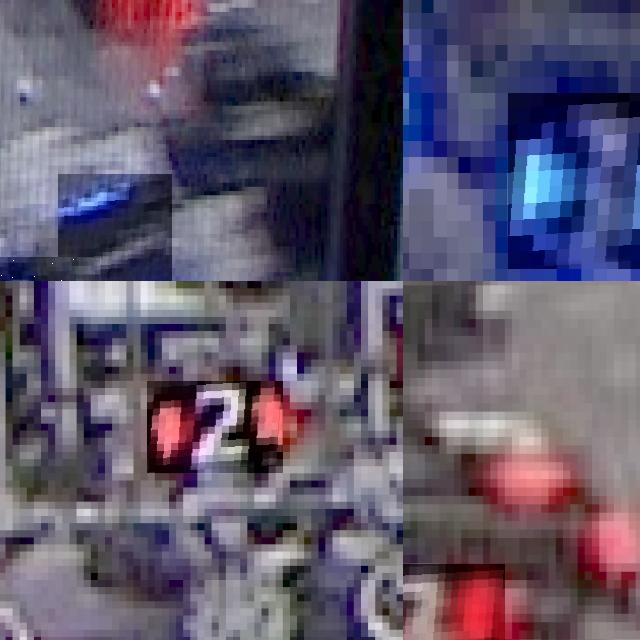B1: (58, 174, 172, 281)
B3: (507, 93, 640, 269)
R2: (147, 381, 283, 473)
R3: (403, 563, 504, 640)
